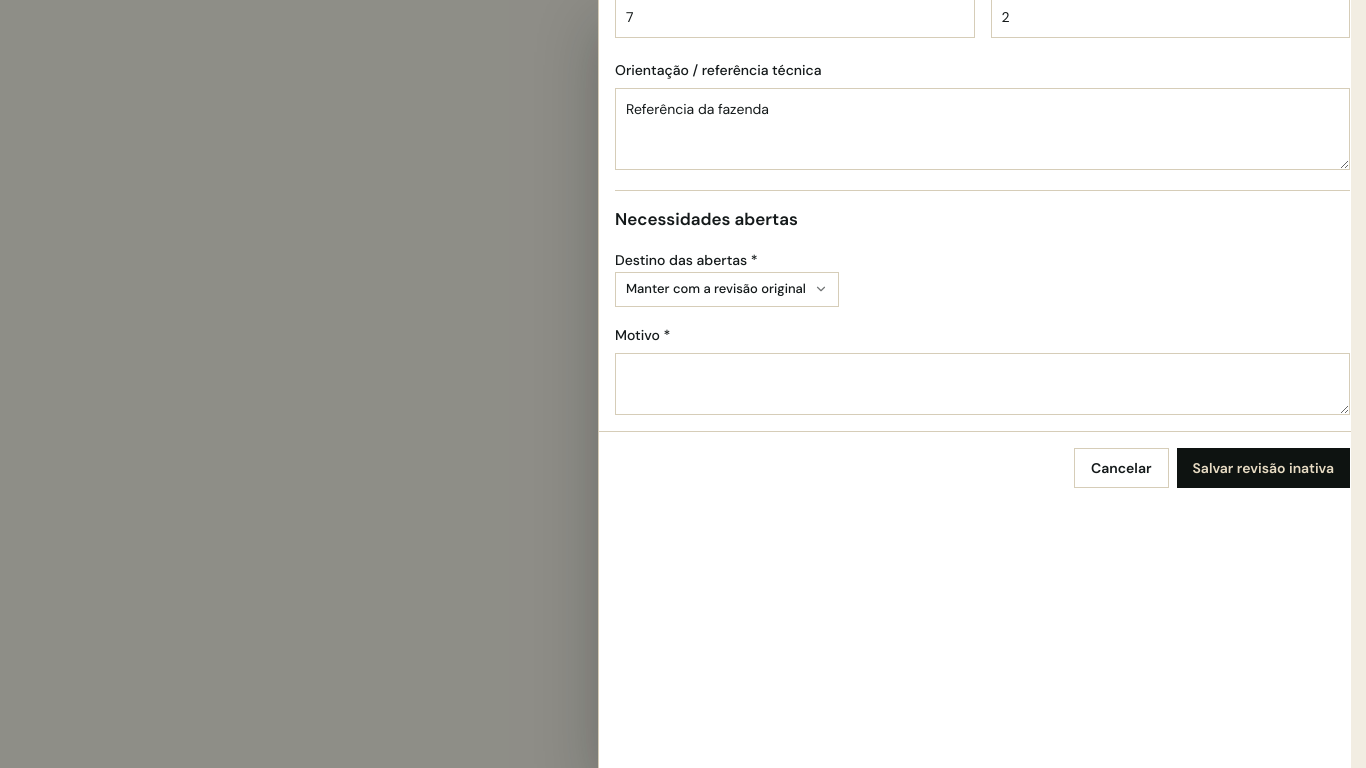
gestão de regras aprovada › revisão preserva todos os critérios e campos após falha
(page scrolled)
Type "Manter o cuidado original" into the text box labelled "Motivo" at (982, 384), box [615,353,1350,415]
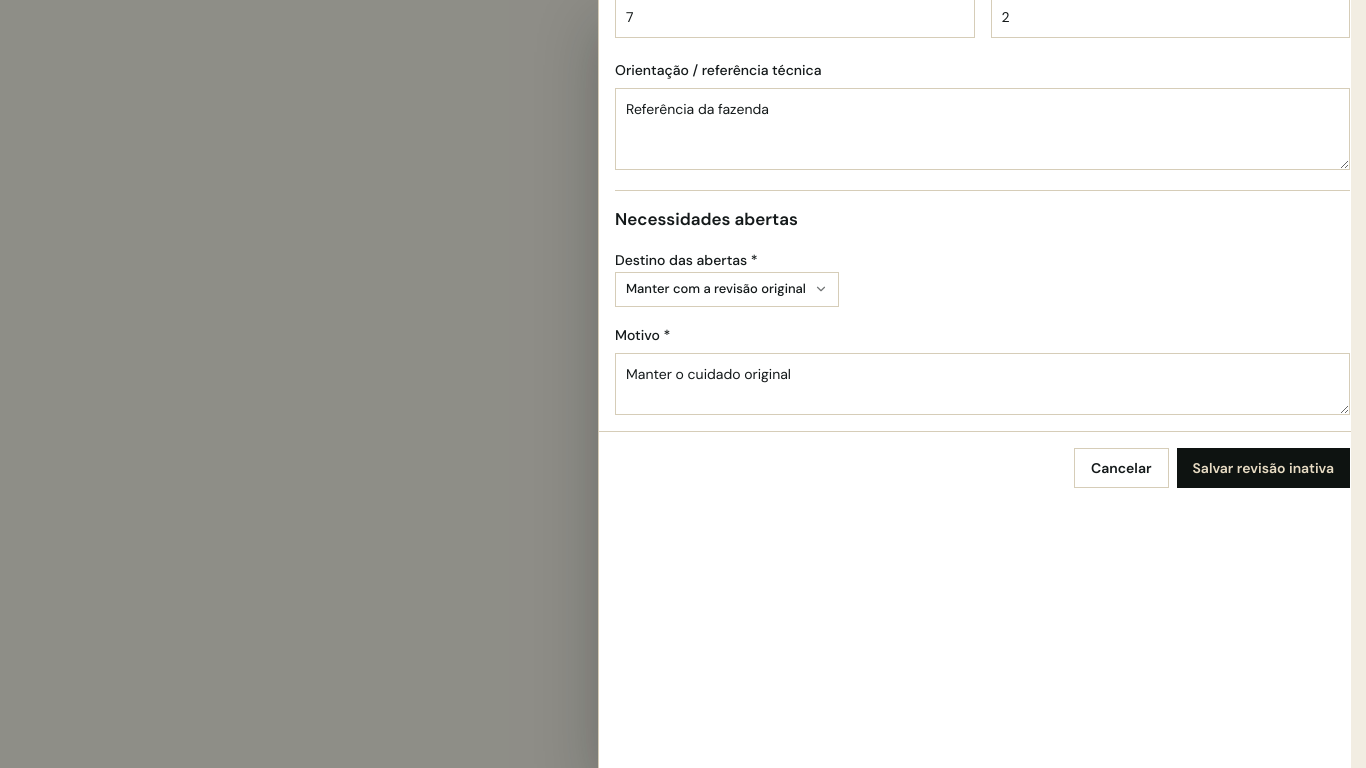
Click the button "Salvar revisão inativa" at (1263, 468), box [1176,448,1350,488]
(page scrolled)
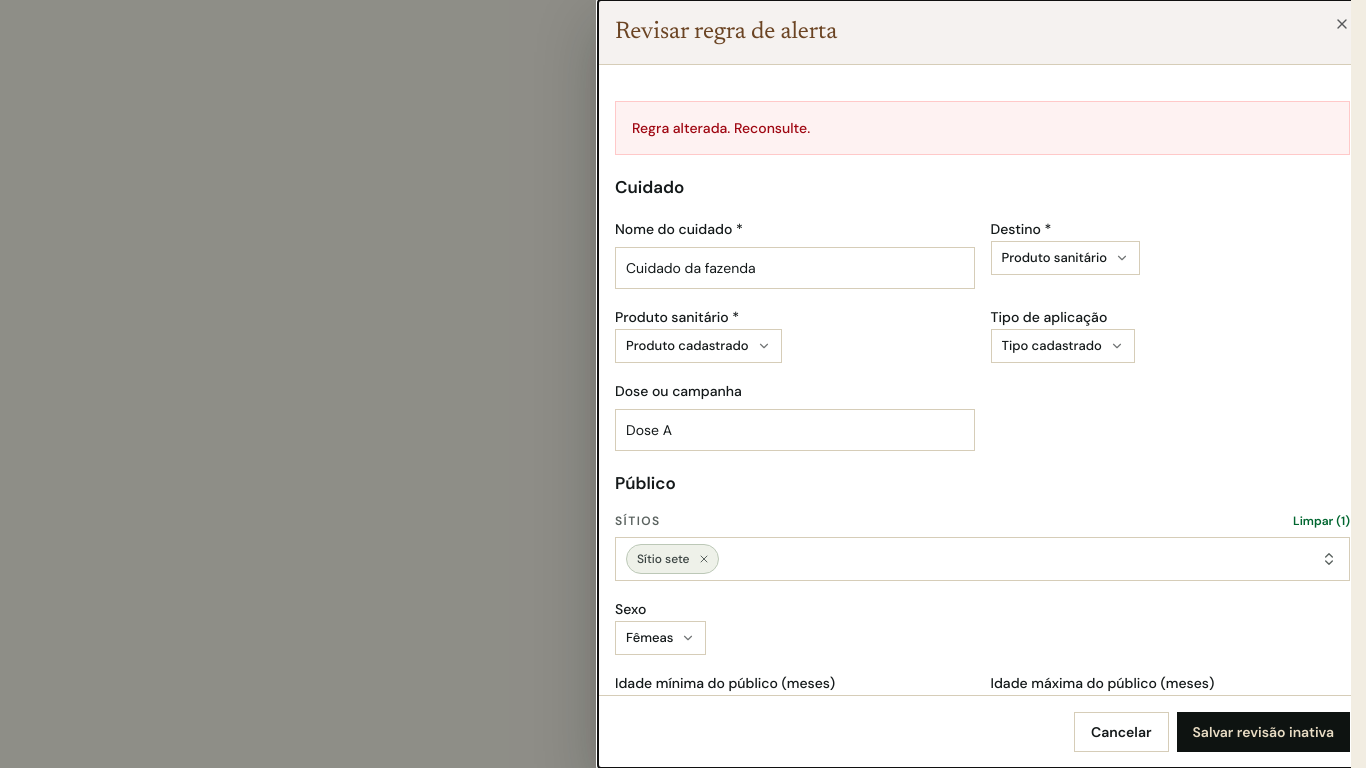
Expected: the text "Regra alterada. Reconsulte." is shown, [615,101,1350,155]
Expected: the field labelled "Nome do cuidado" holds "Cuidado da fazenda", [615,246,974,288]
